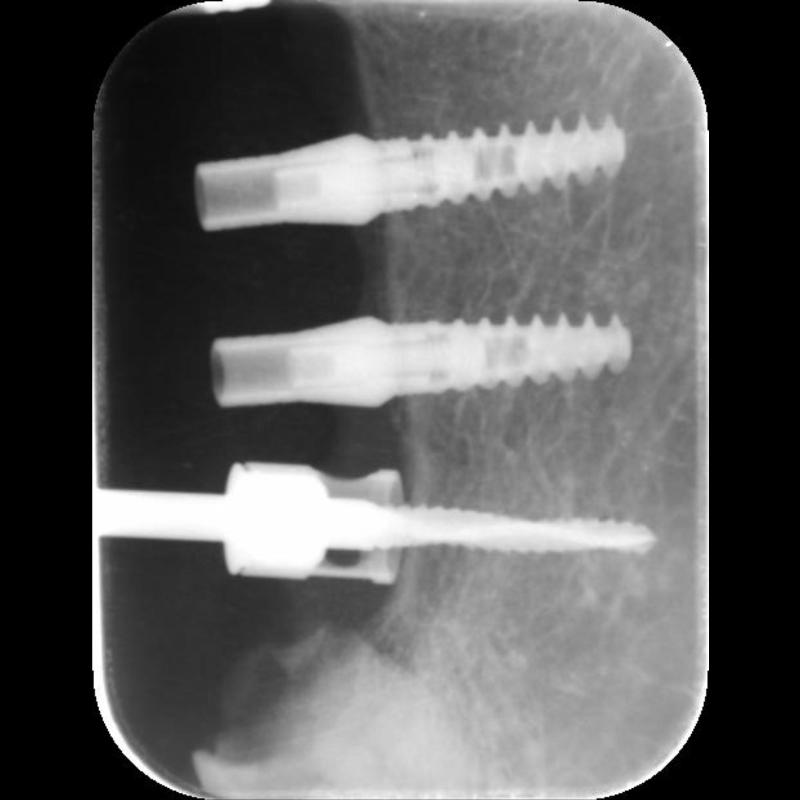ADIN: (380, 94, 622, 226), (410, 284, 642, 414)
